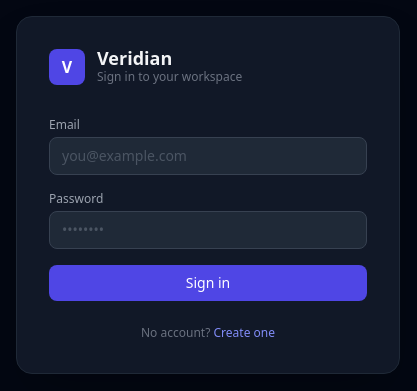
Test: LoginPage › disables submit button while loading
Type "user@example.com" into the field labelled "Email".
click(208, 156); type("user@example.com")  # box top-left (49, 137), bottom-right (367, 175)
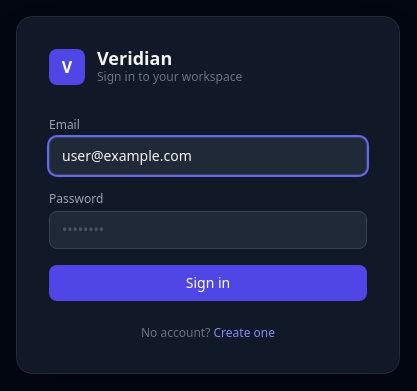
Type "mypassword" into the password field labelled "Password".
click(208, 230); type("mypassword")  # box top-left (49, 211), bottom-right (367, 249)
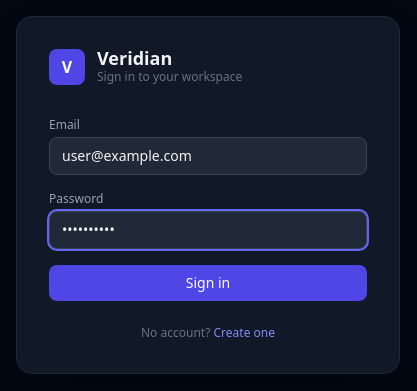
Click the button "Sign in".
click(208, 283)  # box top-left (49, 265), bottom-right (367, 301)
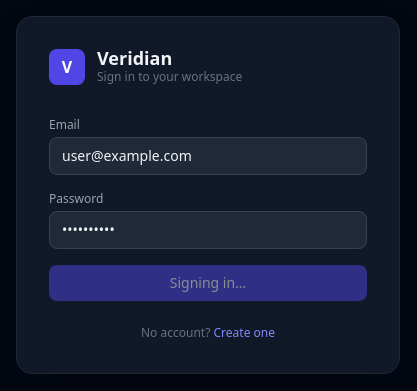
Result: the button "Signing in…" is disabled at top-left (49, 265), bottom-right (367, 301)
